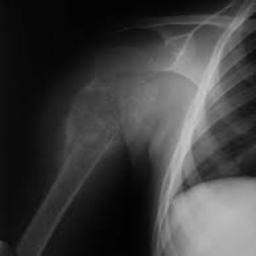cancer: (61, 49, 160, 171)
